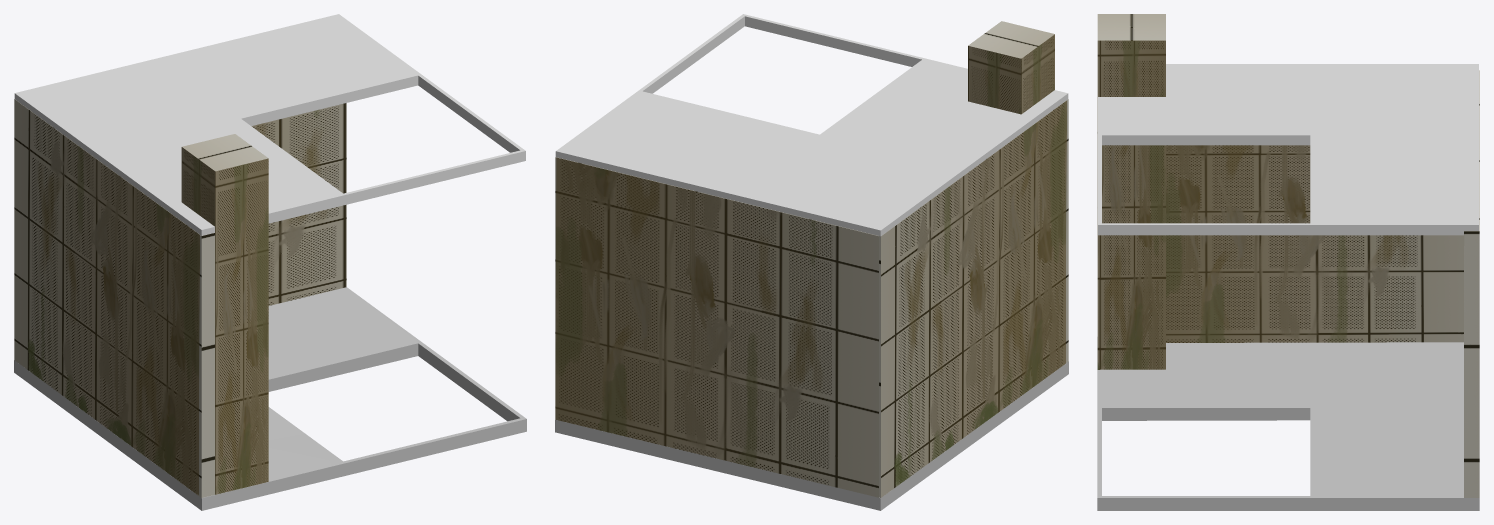
The picture shows the model from 3 angles, left to right: view 1: azimuth 30°, elevation 25°; view 2: azimuth 150°, elevation 25°; view 3: azimuth 270°, elevation 25°; orthographic projection.
Parts seen in each view (by area): view 1: ParedTrasera, Techo, SuelosYMurallas, Pilar, ParedDerecha; view 2: ParedDerecha, ParedTrasera, Techo, SuelosYMurallas, Pilar; view 3: Techo, SuelosYMurallas, ParedTrasera, Pilar, ParedDerecha.
Boxes of the visible parts, box(x1,y1,x2,y2) form: ParedTrasera: box(14, 99, 214, 497); Techo: box(14, 14, 525, 235); SuelosYMurallas: box(14, 287, 526, 510); Pilar: box(181, 134, 268, 494); ParedDerecha: box(251, 103, 346, 305); ParedDerecha: box(555, 157, 878, 497); ParedTrasera: box(879, 99, 1068, 497); Techo: box(555, 14, 1068, 236); SuelosYMurallas: box(555, 361, 1068, 510); Pilar: box(968, 21, 1054, 114); Techo: box(1098, 64, 1478, 235); SuelosYMurallas: box(1097, 337, 1479, 510); ParedTrasera: box(1166, 70, 1479, 342); Pilar: box(1097, 14, 1165, 369); ParedDerecha: box(1464, 71, 1479, 497).
Size of the model in its own units: 500 by 494 by 500.
